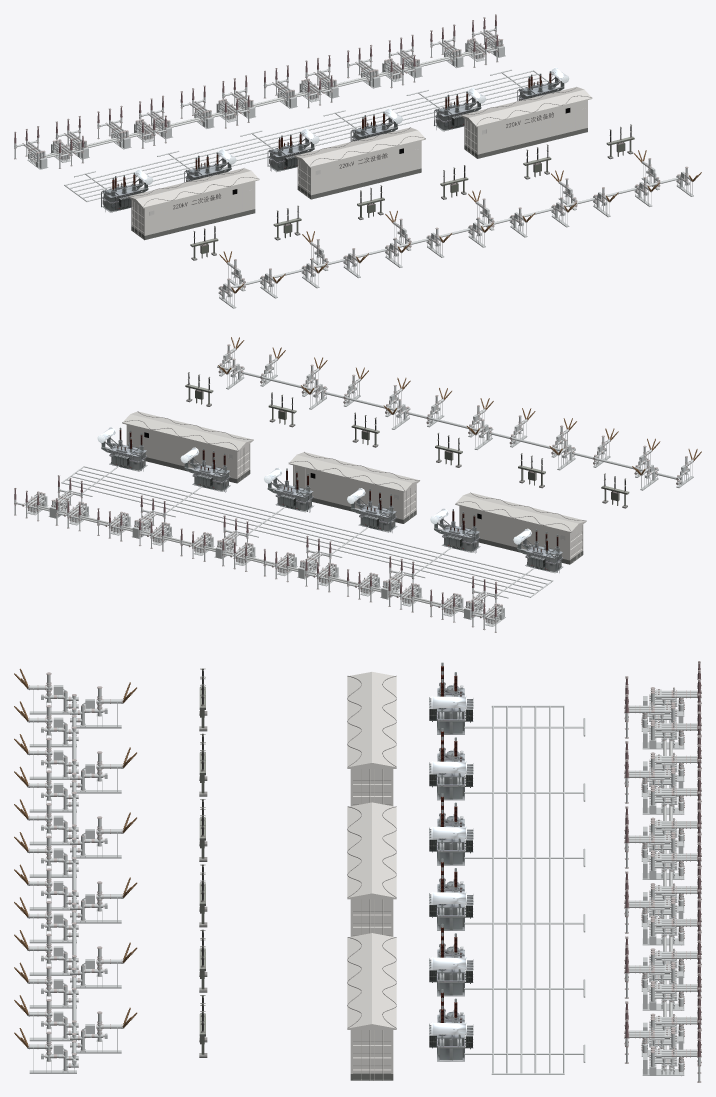
The model's file is devices-optimized1.glb.
3 renders of one model, top to bottom at view 1: azimuth 30°, elevation 25°; view 2: azimuth 150°, elevation 25°; view 3: azimuth 270°, elevation 25°, orthographic. The views are drawn at different scales.
Visible parts, largest first — view 1: Obj3d66-1032738-6449-453, Obj3d66-1032738-6449-453.001, Obj3d66-1032738-6449-453.002, Obj3d66-1032738-6447-250, Obj3d66-1032738-6447-250.001, Obj3d66-1032738-6447-250.002, object 1, Obj3d66-1003450-1690-386, Obj3d66-1032738-6403-526.020, object 7, object 13, Obj3d66-1032738-6403-526.012 (+9 smaller); view 2: Obj3d66-1032738-6428-814.002, Obj3d66-1032738-6428-814, Obj3d66-1032738-6428-814.001, Obj3d66-1032738-6447-250.001, Obj3d66-1032738-6447-250, Obj3d66-1032738-6447-250.002, object 1, Obj3d66-1032738-6403-526.020, object 7, object 4, object 13, object 16 (+8 smaller); view 3: Obj3d66-1032738-6447-250.001, Obj3d66-1032738-6447-250, Obj3d66-1032738-6447-250.002, object 1, object 16, object 13, object 4, object 7, object 10, Obj3d66-1032738-6403-526.020, Obj3d66-1032738-6409-920.002, Obj3d66-1032738-6409-920 (+9 smaller).
Boxes of the visible parts, x1,y1,x2,y2 form: Obj3d66-1032738-6449-453: [144, 181, 255, 235]; Obj3d66-1032738-6449-453.001: [311, 140, 421, 195]; Obj3d66-1032738-6449-453.002: [477, 100, 587, 154]; Obj3d66-1032738-6447-250: [128, 168, 259, 208]; Obj3d66-1032738-6447-250.001: [294, 127, 425, 167]; Obj3d66-1032738-6447-250.002: [461, 87, 592, 127]; object 1: [101, 169, 152, 212]; Obj3d66-1003450-1690-386: [30, 46, 494, 161]; Obj3d66-1032738-6403-526.020: [230, 177, 678, 288]; object 7: [267, 132, 314, 171]; object 13: [434, 91, 481, 131]; Obj3d66-1032738-6403-526.012: [65, 70, 533, 185]; Obj3d66-1032738-6428-814.002: [126, 425, 237, 478]; Obj3d66-1032738-6428-814: [459, 506, 569, 560]; Obj3d66-1032738-6428-814.001: [293, 465, 403, 519]; Obj3d66-1032738-6447-250.001: [288, 452, 419, 492]; Obj3d66-1032738-6447-250: [455, 492, 586, 532]; Obj3d66-1032738-6447-250.002: [122, 411, 253, 451]; object 1: [513, 528, 563, 572]; Obj3d66-1032738-6403-526.020: [217, 365, 676, 479]; object 7: [351, 488, 397, 532]; object 4: [434, 509, 480, 553]; object 13: [184, 448, 230, 492]; object 16: [101, 427, 147, 471]; Obj3d66-1032738-6447-250.001: [347, 802, 396, 899]; Obj3d66-1032738-6447-250: [347, 672, 396, 768]; Obj3d66-1032738-6447-250.002: [347, 933, 396, 1029]; object 1: [429, 662, 473, 734]; object 16: [429, 989, 473, 1061]; object 13: [429, 923, 473, 996]; object 4: [429, 728, 473, 800]; object 7: [429, 793, 473, 865]; object 10: [429, 858, 473, 930]; Obj3d66-1032738-6403-526.020: [72, 699, 76, 1063]; Obj3d66-1032738-6409-920.002: [353, 1030, 391, 1073]; Obj3d66-1032738-6409-920: [353, 769, 391, 804].
Size of the model in its own units: 69.62 by 5.78 by 53.42.
Materials: 9 (9 with a texture image).
